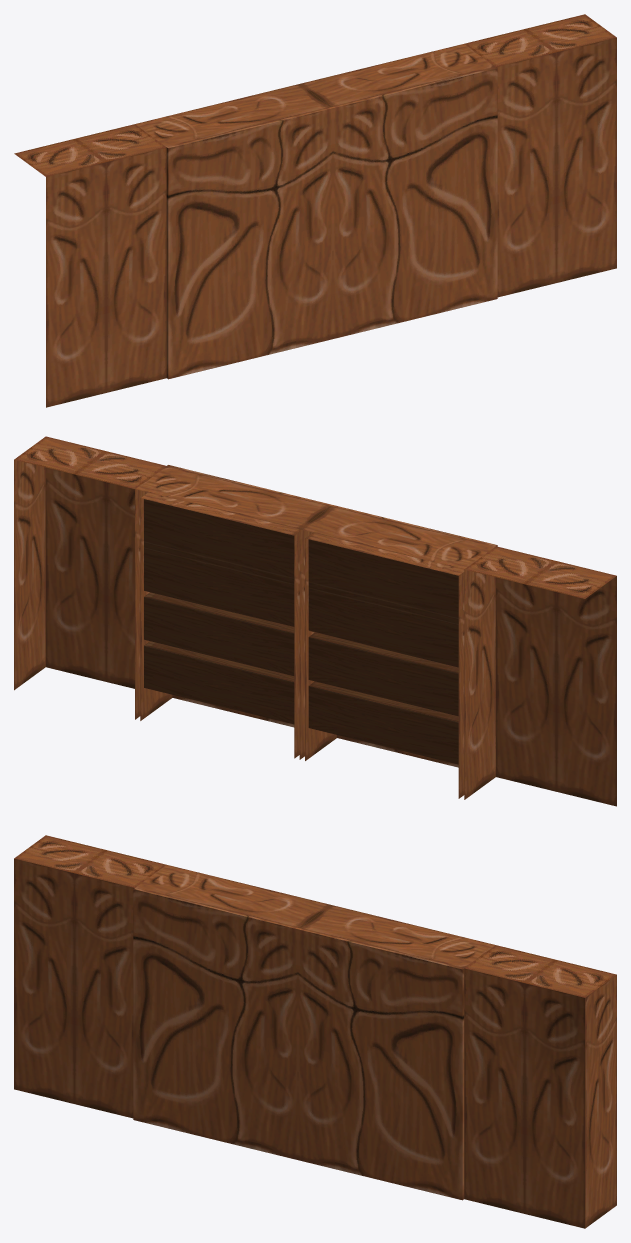
The model's file is EKH_GROTTO_PS_GR_BOOKC3635__GX.fbx.
The picture shows the model from 3 angles, top to bottom: view 1: azimuth 30°, elevation 25°; view 2: azimuth 150°, elevation 25°; view 3: azimuth 330°, elevation 25°; orthographic projection.
Parts seen in each view (by area): view 1: EKH_GROTTO_PS_GR_BOOKC3635__GX; view 2: EKH_GROTTO_PS_GR_BOOKC3635__GX; view 3: EKH_GROTTO_PS_GR_BOOKC3635__GX.
Part boxes in pixels (bbox=[...]): EKH_GROTTO_PS_GR_BOOKC3635__GX: bbox=[14, 14, 616, 407]; EKH_GROTTO_PS_GR_BOOKC3635__GX: bbox=[14, 436, 616, 806]; EKH_GROTTO_PS_GR_BOOKC3635__GX: bbox=[14, 835, 616, 1228].
Bounding box in the file's own units: 54377 × 21000 × 5504.
Materials: 6 (6 with a texture image).
